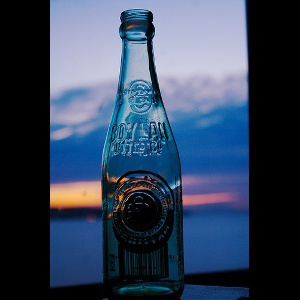emptybottle: (98, 9, 184, 299)
